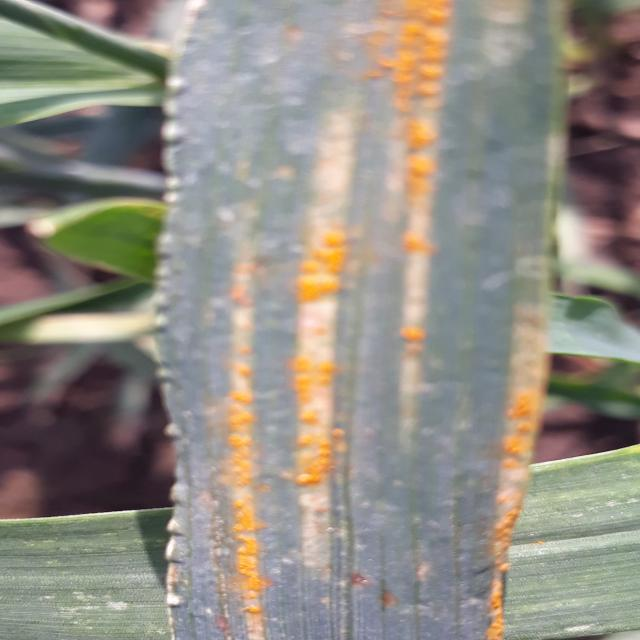yellow_rust: (116, 8, 579, 632)
